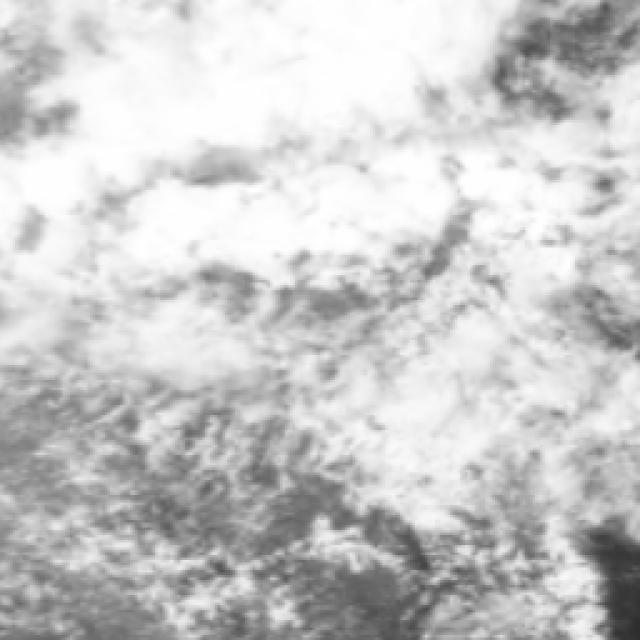CB: (109, 73, 295, 142), (288, 0, 443, 70)
